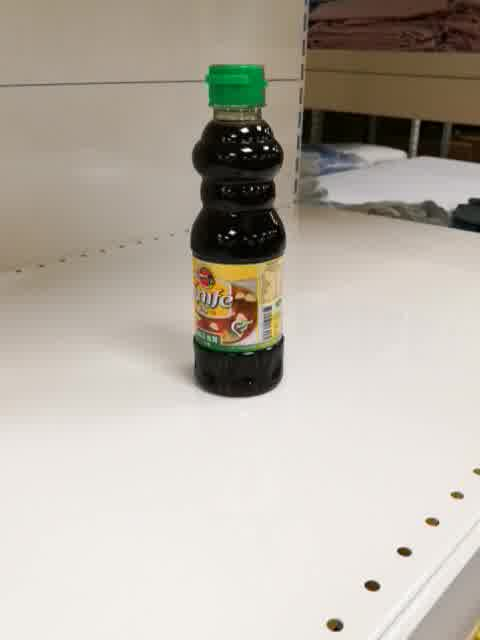cookingoil: (188, 61, 288, 399)
